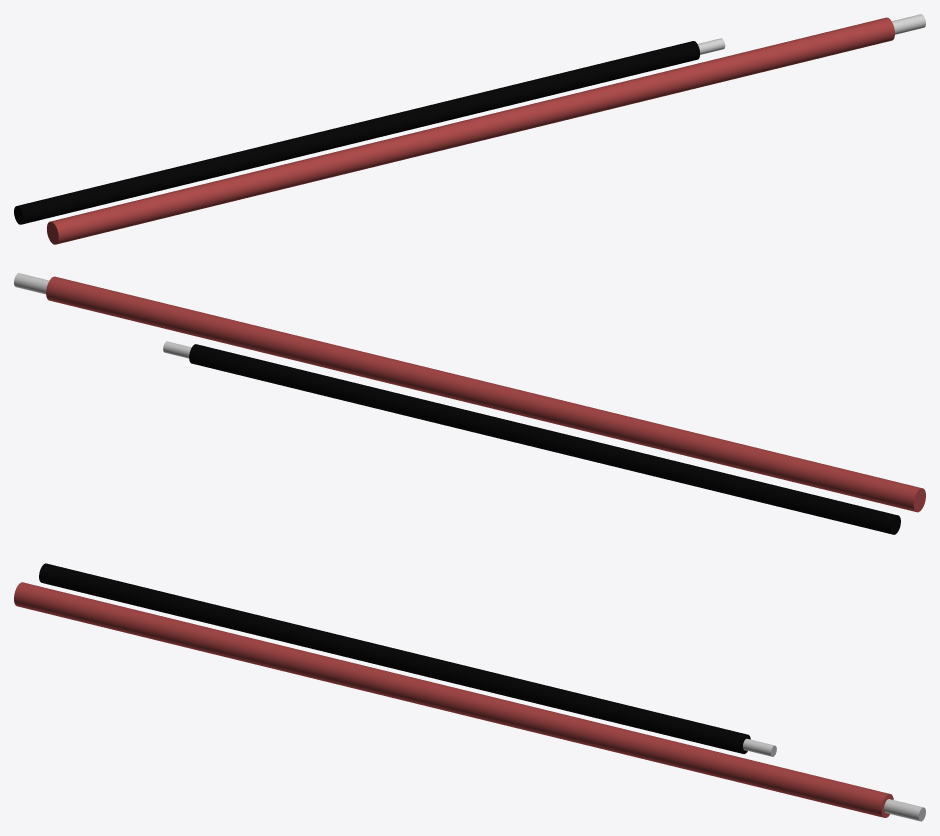
Rendered from wire.gltf.
The picture shows the model from 3 angles, top to bottom: view 1: azimuth 30°, elevation 25°; view 2: azimuth 150°, elevation 25°; view 3: azimuth 330°, elevation 25°; orthographic projection. The views are drawn at different scales.
Visible parts, largest first — view 1: 6" WIRE W/ TERMINAL, 6" WIRE W/ TERMINAL.005; view 2: 6" WIRE W/ TERMINAL, 6" WIRE W/ TERMINAL.005; view 3: 6" WIRE W/ TERMINAL, 6" WIRE W/ TERMINAL.005.
Boxes of the visible parts, x1,y1,x2,y2 form: 6" WIRE W/ TERMINAL: (47,14,925,244); 6" WIRE W/ TERMINAL.005: (14,38,725,224); 6" WIRE W/ TERMINAL: (14,273,925,512); 6" WIRE W/ TERMINAL.005: (163,341,900,534); 6" WIRE W/ TERMINAL: (14,582,925,821); 6" WIRE W/ TERMINAL.005: (39,563,776,756).
Size of the model in its own units: 0.8152 by 0.0192 by 0.0633.
